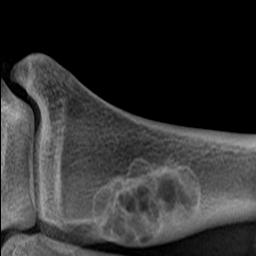cancer: (90, 159, 200, 248)
